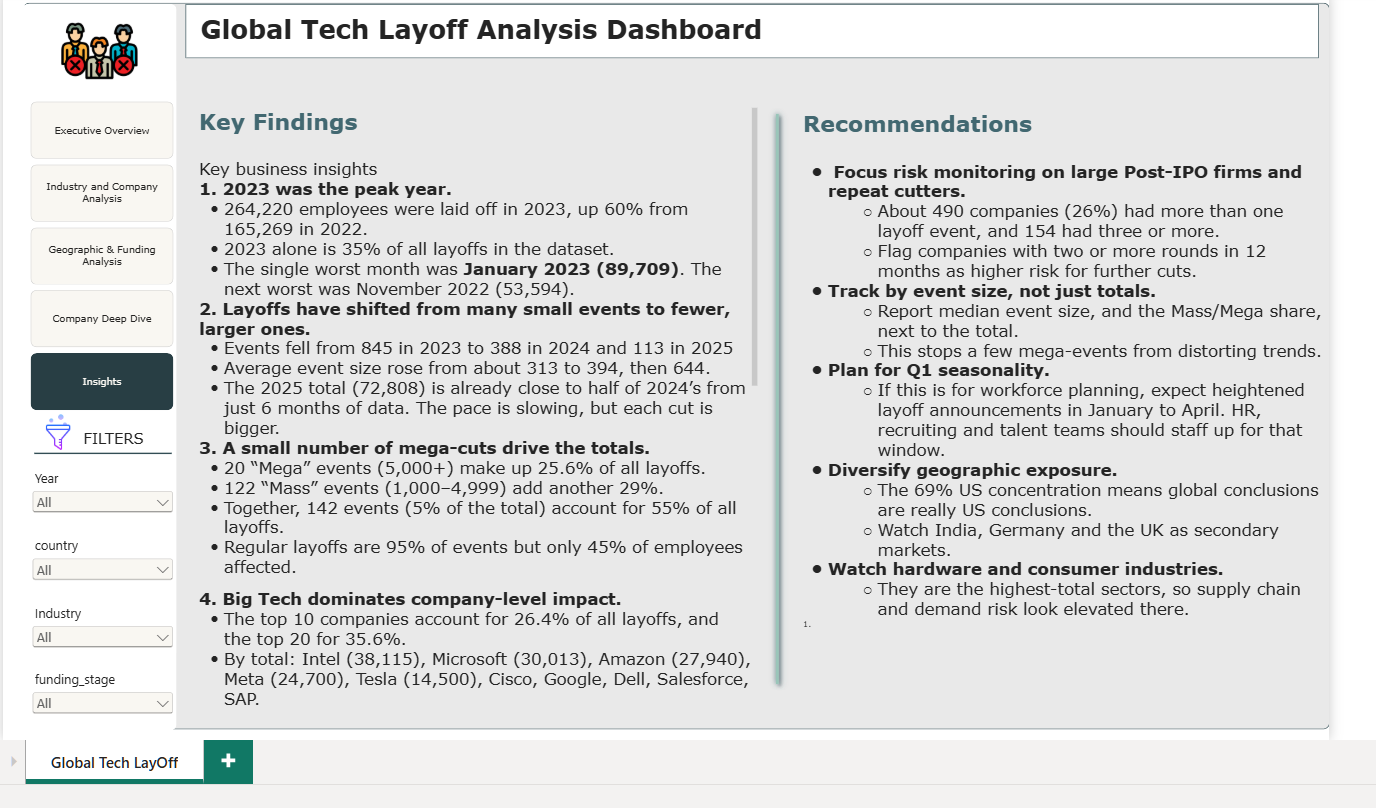

The page's visual inventory and layout, read from the dashboard file:
{"tool":"powerbi","page":{"name":"Global Tech LayOff","canvas":[1920,1080],"ordinal":0},"visuals":[{"type":"shape","box":[29,12.7,1892,1052],"z":0},{"type":"shape","box":[27.1,14.5,224.4,1051.4],"z":1000},{"type":"slicer","fields":{"Values":["Date.Year"]},"box":[38.7,687.3,212.9,80.6],"z":3000},{"type":"slicer","fields":{"Values":["layoffs_events.country"]},"box":[38.7,785.6,212.9,80.6],"z":4000},{"type":"slicer","fields":{"Values":["layoffs_events.industry"]},"box":[38.7,883.9,212.9,77.4],"z":5000},{"type":"slicer","fields":{"Values":["layoffs_events.funding_stage"]},"box":[38,979,212.9,87.1],"z":6000},{"type":"textbox","box":[38,613.5,213.5,52.5],"z":7000},{"type":"image","box":[29,602.6,101.3,63.3],"z":8000},{"type":"shape","box":[45.2,613.5,199.1,103.2],"z":9000},{"type":"shape","box":[264.9,14.6,1640.8,78.6],"z":11000},{"type":"textbox","box":[285.9,27.1,843.3,72.4],"z":12000},{"type":"image","box":[72.4,27.1,133.9,110.4],"z":17000},{"type":"textbox","box":[285,165.1,807.9,870.8],"z":40000},{"type":"textbox","box":[1158.5,98.1,760.4,909.4],"z":41000},{"type":"bookmarkNavigator","box":[40,156,207.5,447.5],"z":41001},{"type":"shape","box":[1084,164.7,74.2,843.3],"z":41002}]}

Visuals, with their boxes on the page's 1920x1080 design canvas (x1, y1, x2, y2). These are canvas units, not pixel positions in the 1376x808 screenshot, which may show the page scaled, cropped or inside an application window:
shape: bbox=(29, 13, 1921, 1065)
shape: bbox=(27, 14, 252, 1066)
slicer - Date.Year: bbox=(39, 687, 252, 768)
slicer - layoffs_events.country: bbox=(39, 786, 252, 866)
slicer - layoffs_events.industry: bbox=(39, 884, 252, 961)
slicer - layoffs_events.funding_stage: bbox=(38, 979, 251, 1066)
textbox: bbox=(38, 614, 252, 666)
image: bbox=(29, 603, 130, 666)
shape: bbox=(45, 614, 244, 717)
shape: bbox=(265, 15, 1906, 93)
textbox: bbox=(286, 27, 1129, 100)
image: bbox=(72, 27, 206, 138)
textbox: bbox=(285, 165, 1093, 1036)
textbox: bbox=(1158, 98, 1919, 1008)
bookmarkNavigator: bbox=(40, 156, 248, 604)
shape: bbox=(1084, 165, 1158, 1008)
